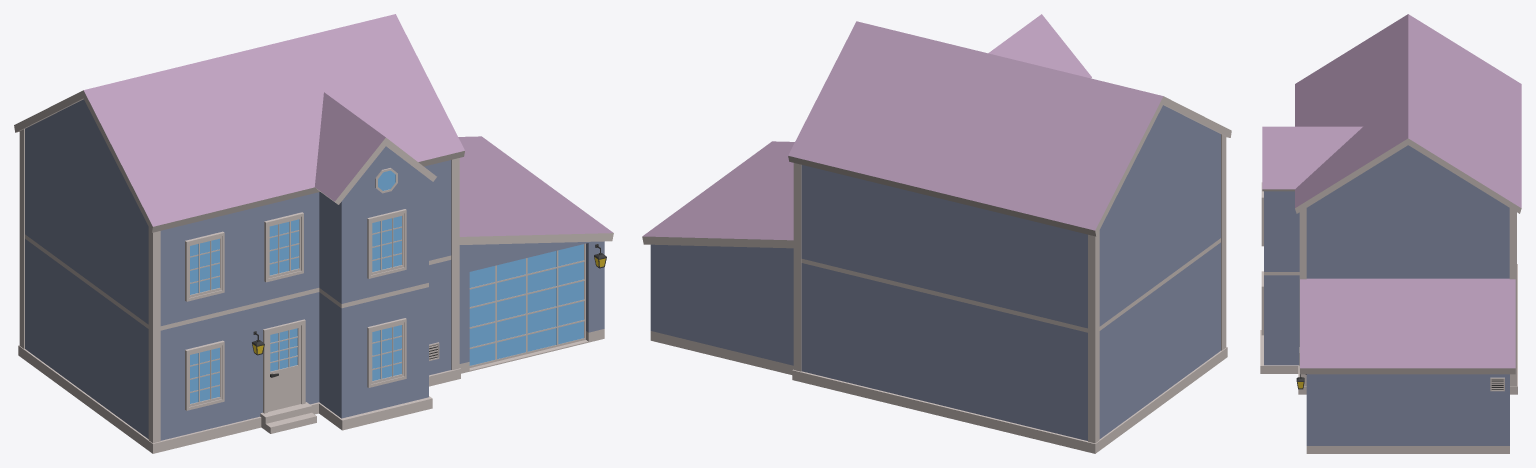
Rendered from House.fbx.
3 views of the same model, side by side, from view 1: azimuth 30°, elevation 25°; view 2: azimuth 150°, elevation 25°; view 3: azimuth 270°, elevation 25° (orthographic). The views are drawn at different scales.
Visible parts, largest first — view 1: House; view 2: House; view 3: House.
Boxes of the visible parts, x1=… form: House: x1=14, y1=14, x2=613, y2=453; House: x1=642, y1=14, x2=1231, y2=453; House: x1=1260, y1=14, x2=1521, y2=453.
Bounding box in the file's own units: 1508 × 978 × 901.
